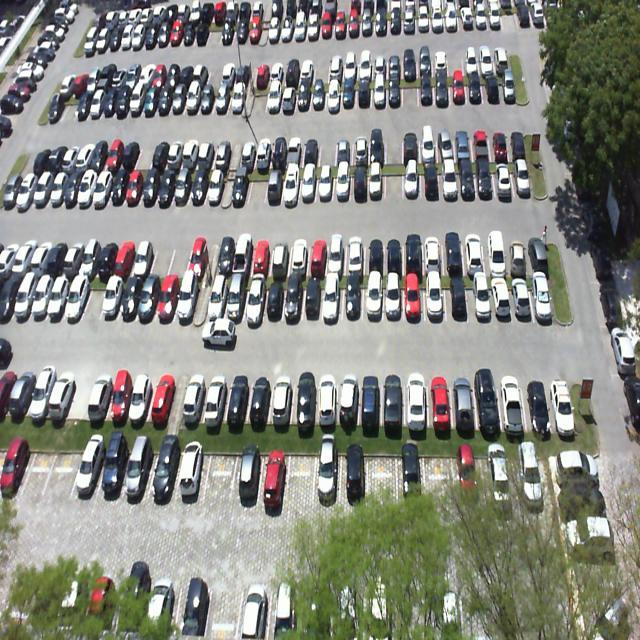space-empty: (43, 445, 78, 499), (204, 448, 238, 498), (21, 446, 55, 494), (64, 367, 93, 420), (288, 449, 314, 504), (148, 237, 172, 278), (167, 238, 192, 276), (250, 166, 268, 204), (388, 162, 404, 200)
space-occupied: (94, 445, 132, 502), (123, 442, 158, 502), (71, 446, 106, 501), (148, 444, 182, 500), (231, 451, 264, 504), (545, 370, 576, 426), (499, 373, 528, 432), (175, 445, 208, 496), (312, 451, 342, 507), (223, 370, 254, 424), (259, 448, 290, 500), (523, 371, 550, 428), (476, 372, 502, 429), (117, 271, 146, 322), (222, 272, 249, 326), (83, 371, 112, 421), (106, 371, 134, 422), (452, 374, 479, 426), (136, 267, 162, 320), (428, 375, 454, 428), (127, 370, 154, 420), (312, 372, 336, 428), (268, 373, 294, 424), (154, 274, 180, 324), (203, 370, 229, 420), (246, 372, 272, 422), (262, 270, 286, 324), (530, 270, 557, 318), (148, 374, 175, 422), (359, 371, 382, 426), (174, 272, 198, 324), (382, 371, 405, 424), (101, 270, 125, 320), (241, 275, 265, 325), (335, 373, 359, 423), (290, 372, 313, 424), (405, 374, 428, 426), (486, 273, 511, 320), (483, 227, 507, 275), (181, 373, 206, 418), (443, 226, 466, 273), (205, 273, 225, 327), (130, 236, 156, 276), (113, 238, 140, 276), (509, 276, 532, 320), (303, 276, 324, 324), (155, 165, 178, 208), (525, 229, 548, 272), (444, 277, 467, 320), (467, 275, 488, 322), (188, 164, 211, 206), (363, 276, 384, 322), (282, 276, 302, 324), (505, 227, 526, 272), (322, 277, 343, 322), (425, 229, 445, 276), (188, 239, 212, 278), (139, 165, 162, 205), (511, 156, 534, 196), (287, 234, 310, 274), (404, 226, 424, 272), (404, 274, 424, 320), (426, 276, 446, 322), (172, 165, 193, 208), (382, 231, 404, 272), (229, 238, 252, 277), (204, 166, 226, 206), (464, 228, 484, 272), (231, 164, 252, 205), (213, 239, 236, 276), (384, 276, 402, 322), (307, 234, 328, 273), (345, 231, 364, 274), (268, 236, 290, 272), (251, 235, 272, 272), (345, 275, 362, 320), (324, 235, 344, 273), (364, 235, 383, 273), (458, 162, 478, 198), (478, 158, 496, 198), (299, 166, 317, 205), (494, 160, 514, 195), (267, 166, 284, 207), (283, 164, 300, 205), (368, 162, 386, 200), (422, 163, 440, 198), (333, 165, 350, 202), (403, 163, 420, 198), (440, 162, 458, 195), (316, 166, 332, 200), (351, 164, 367, 198)
